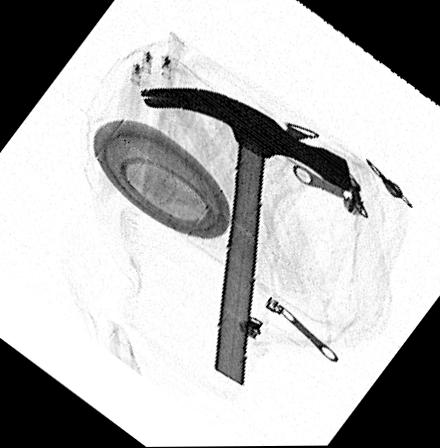Hammer: (136, 85, 353, 385)
